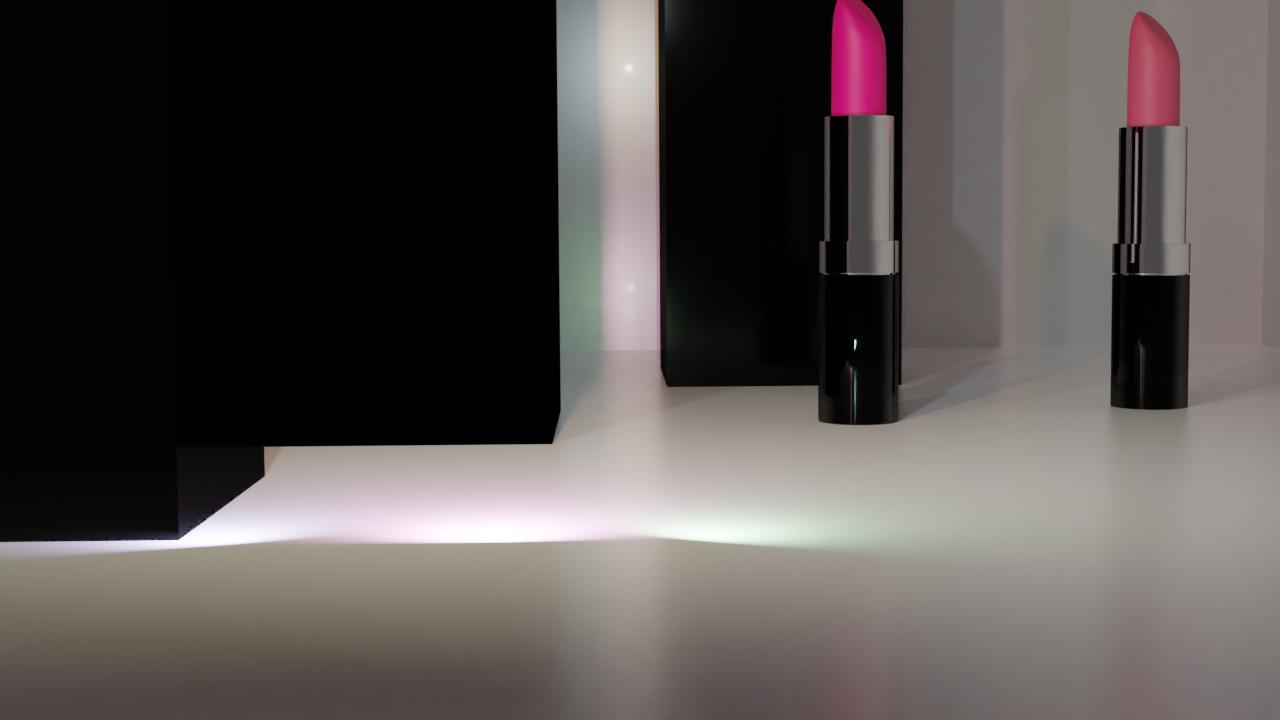CLASSIFIER_NAME: (817, 0, 901, 425), (1108, 7, 1192, 416)
